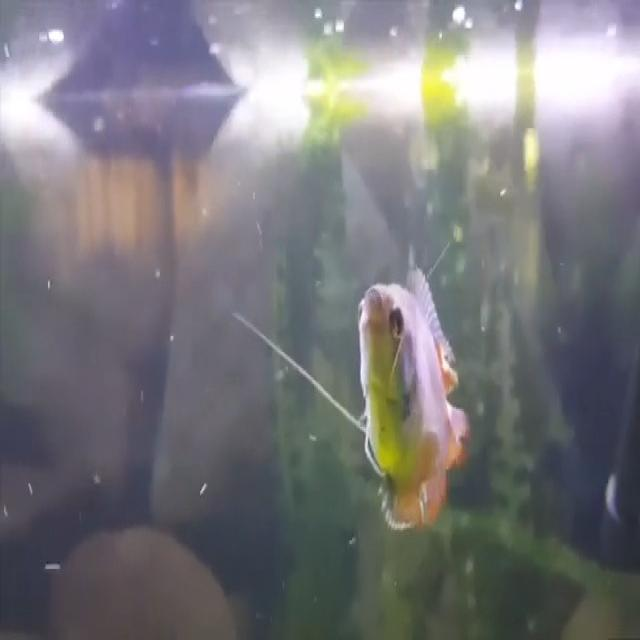fish: (358, 268, 472, 534)
